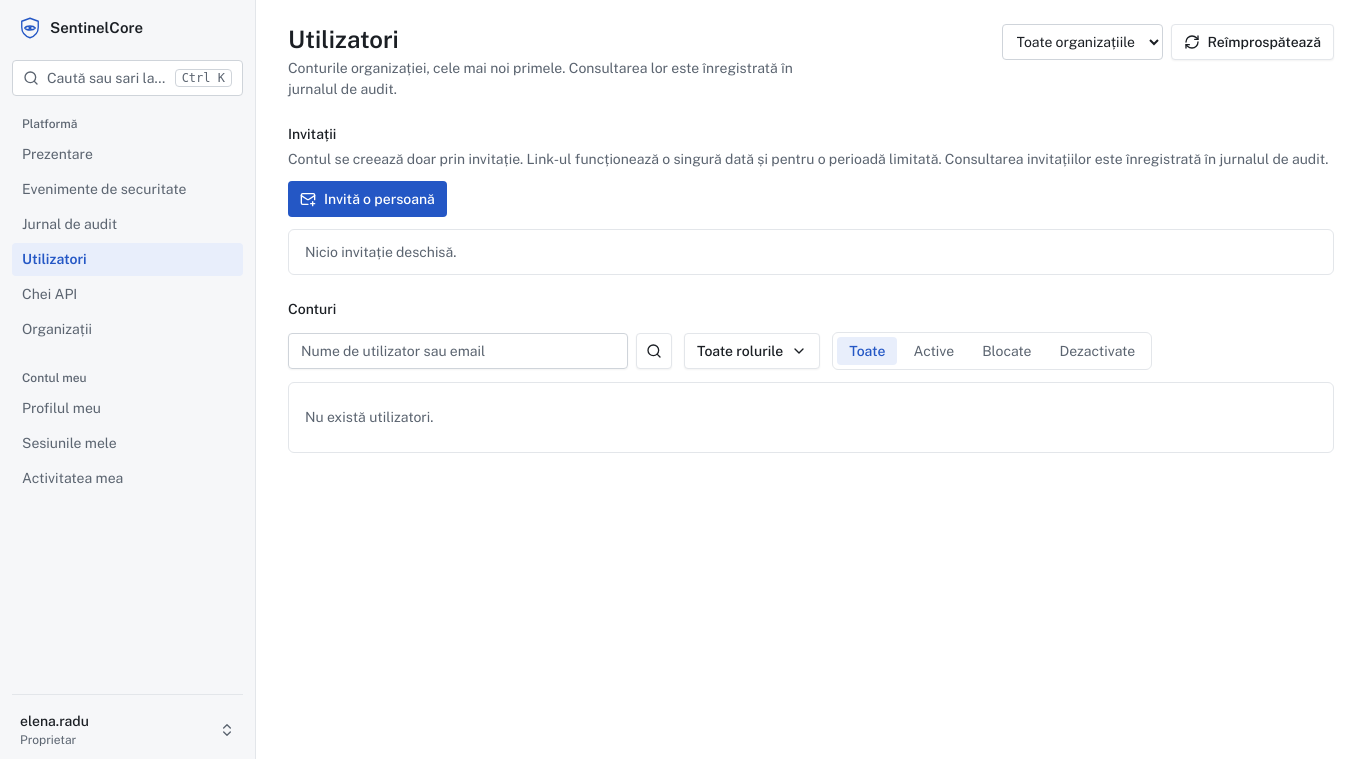
Test: invitations on the users page › lets the owner offer the admin role, in the organization chosen
This screenshot has width=1366, height=759.
Click the button "Invită o persoană" at x=367, y=199, box left=288, top=181, right=447, bottom=217
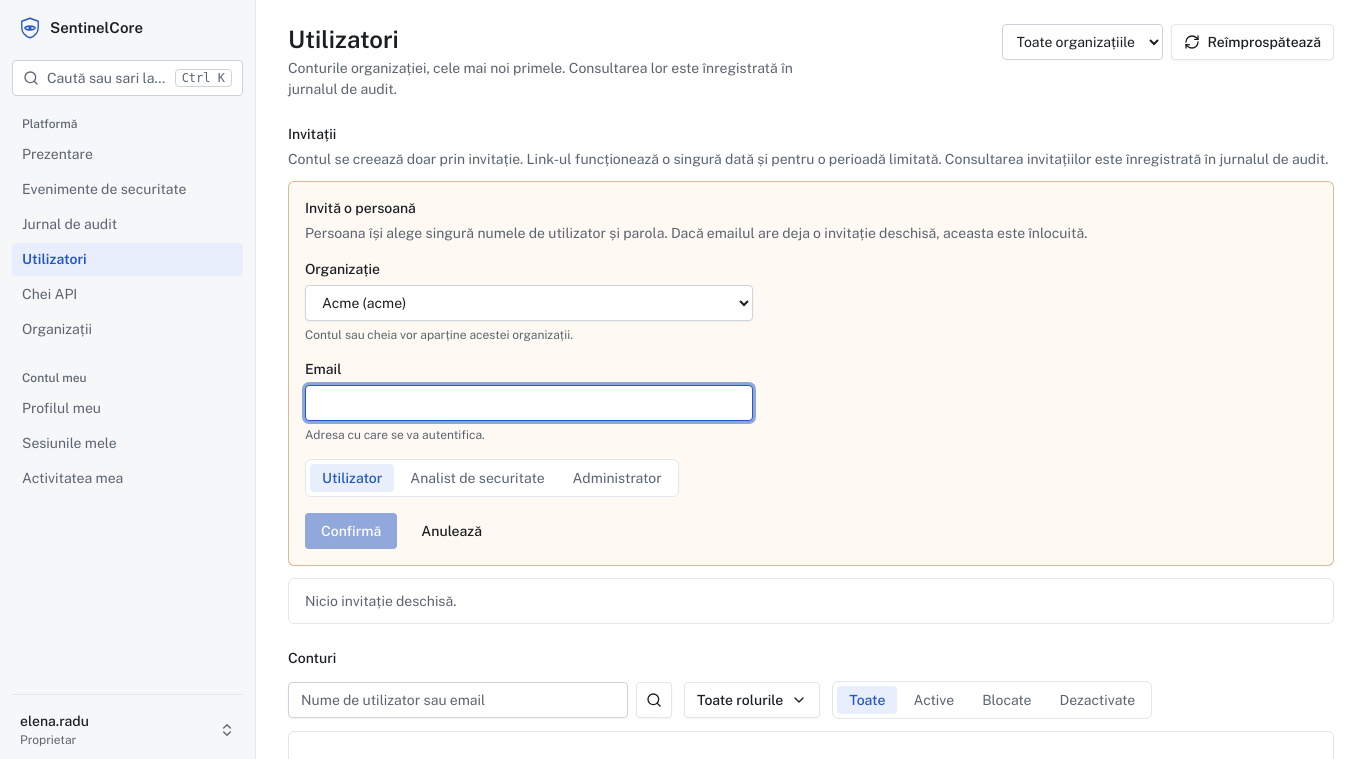
Click the button "Administrator" at x=617, y=478, box left=561, top=464, right=674, bottom=492
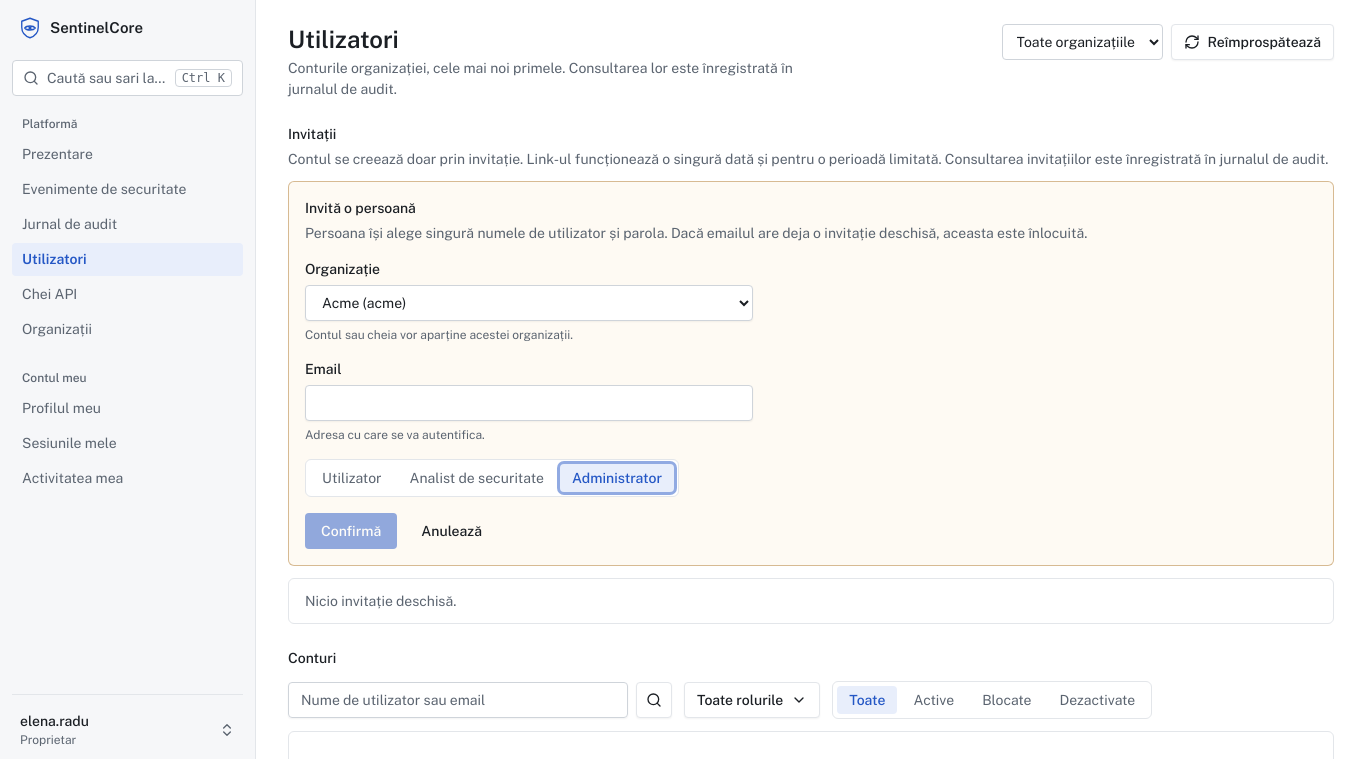
Type "sef.it@example.com" into the field labelled "Email" at x=529, y=403, box left=305, top=385, right=753, bottom=421
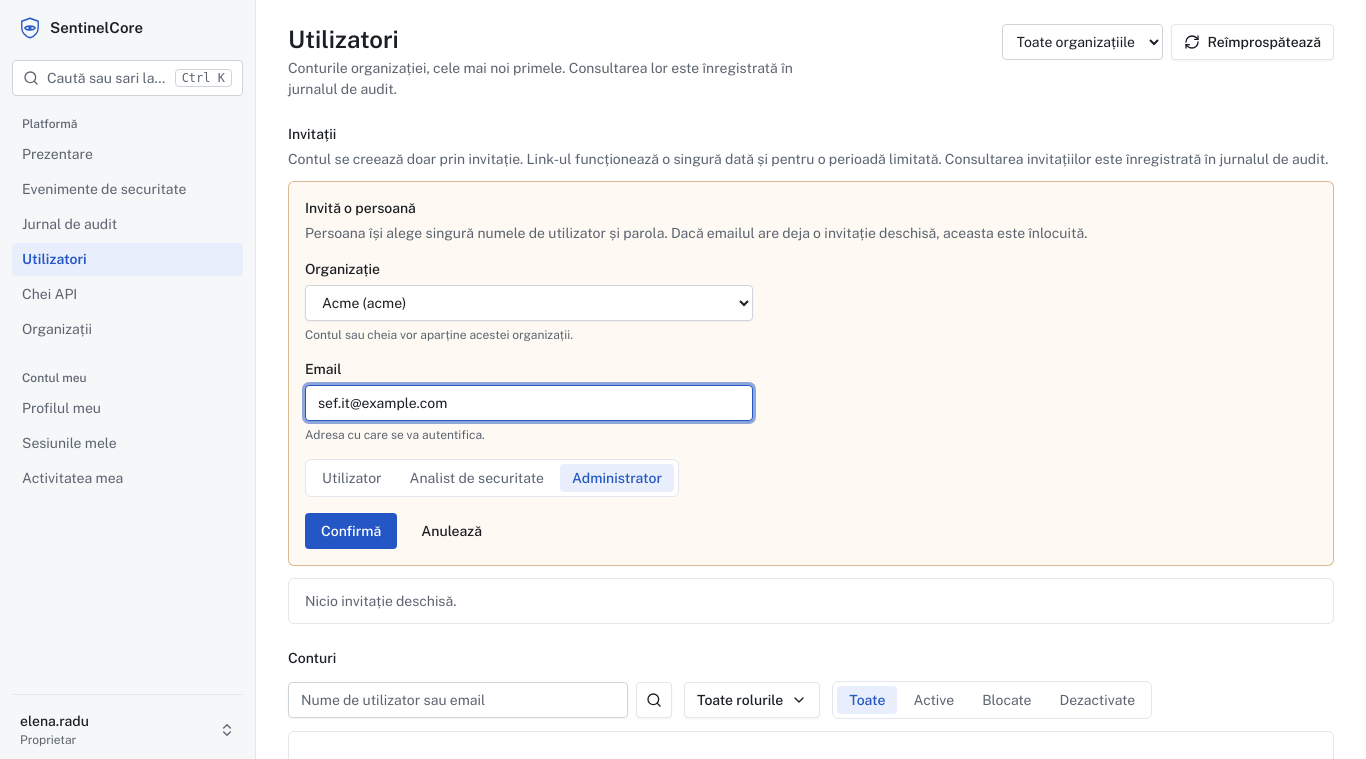
Check: the dropdown labelled "Organizație" shows "Acme (acme)", box left=305, top=285, right=753, bottom=321
Click the button "Confirmă" at x=351, y=531, box left=305, top=513, right=397, bottom=549
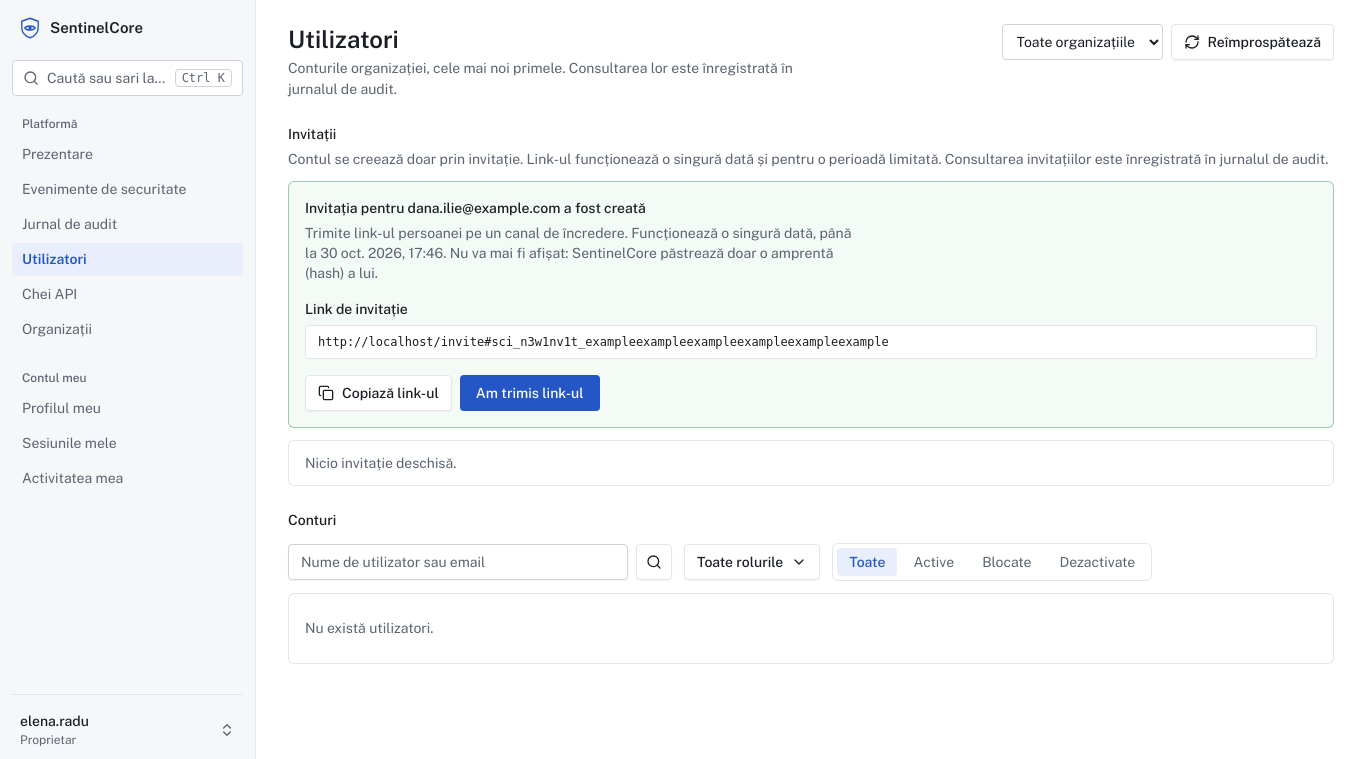
Check: the element "a fost creată" is shown, box left=288, top=181, right=1334, bottom=428
